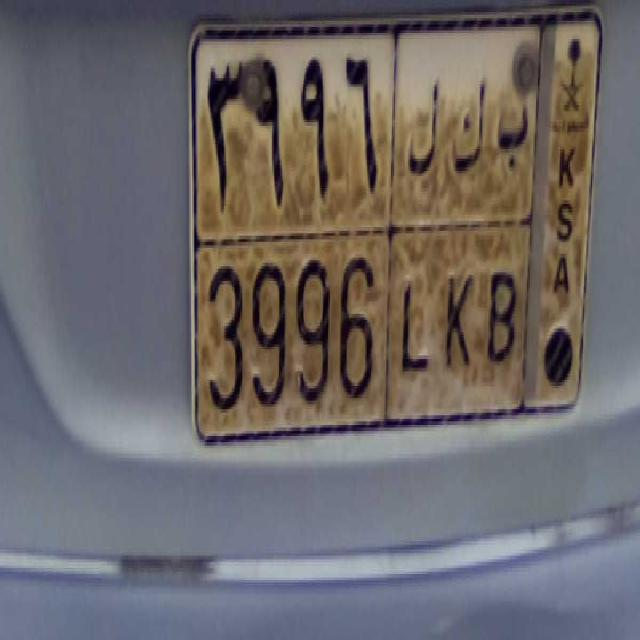license_plate: (191, 216, 529, 425)
